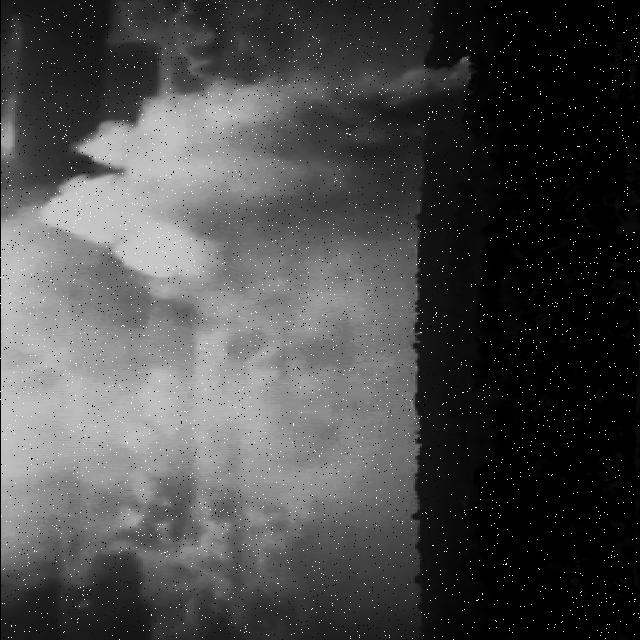asap: (29, 50, 497, 319)
